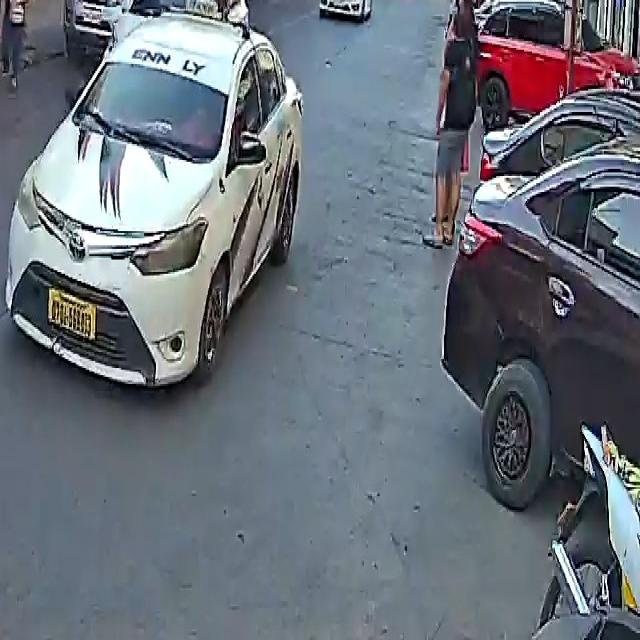car: (2, 14, 306, 392), (443, 101, 640, 522), (445, 0, 638, 128), (62, 0, 202, 64), (101, 0, 246, 48), (314, 0, 375, 23)
